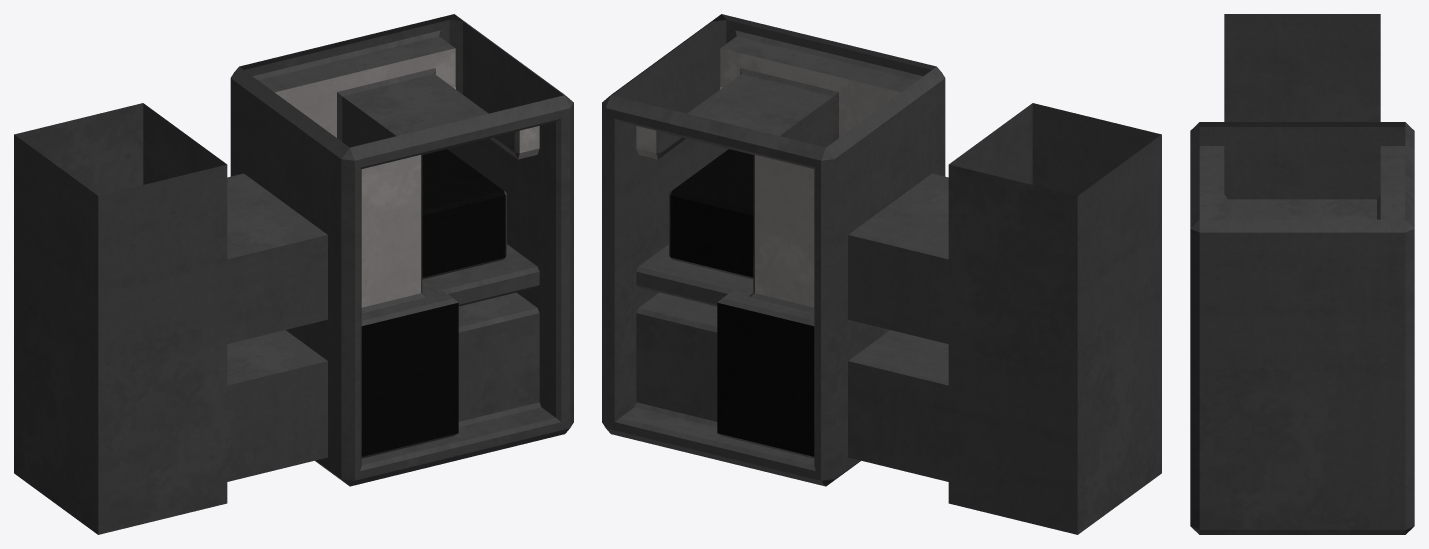
Rendered from Middlepart.fbx.
3 views of the same model, side by side, from view 1: azimuth 30°, elevation 25°; view 2: azimuth 150°, elevation 25°; view 3: azimuth 270°, elevation 25° (orthographic). The views are drawn at different scales.
Visible parts, largest first — view 1: elevator; view 2: elevator; view 3: elevator.
Boxes of the visible parts, x1,y1,x2,y2 form: elevator: [14, 14, 573, 534]; elevator: [602, 14, 1161, 534]; elevator: [1190, 14, 1414, 534].
Bounding box in the file's own units: 7.15 × 5.01 × 3.24.
